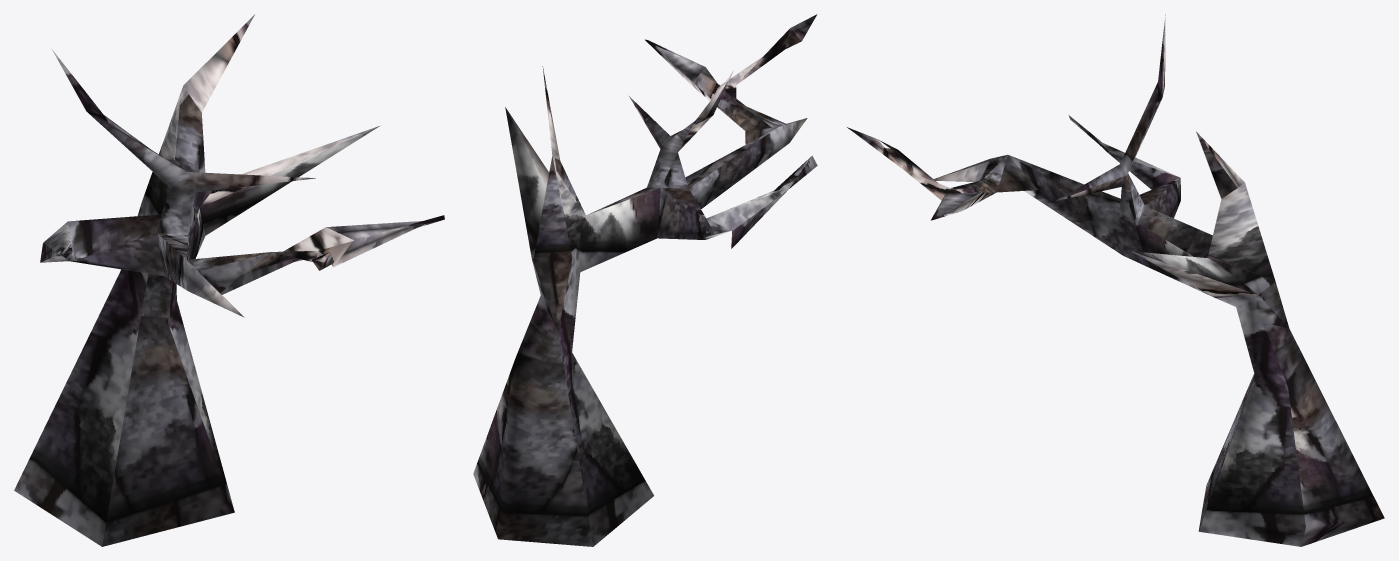
File: BurntTree_3.gltf
The picture shows the model from 3 angles, left to right: view 1: azimuth 30°, elevation 25°; view 2: azimuth 150°, elevation 25°; view 3: azimuth 270°, elevation 25°; orthographic projection. The views are drawn at different scales.
Visible parts, largest first — view 1: BurntTree_3; view 2: BurntTree_3; view 3: BurntTree_3.
Part boxes in pixels (x1,y1,x2,y2): BurntTree_3: [14, 14, 444, 546]; BurntTree_3: [473, 14, 817, 546]; BurntTree_3: [847, 14, 1384, 546].
Size of the model in its own units: 5.39 by 7.88 by 8.57.
1 material, 1 textured.
